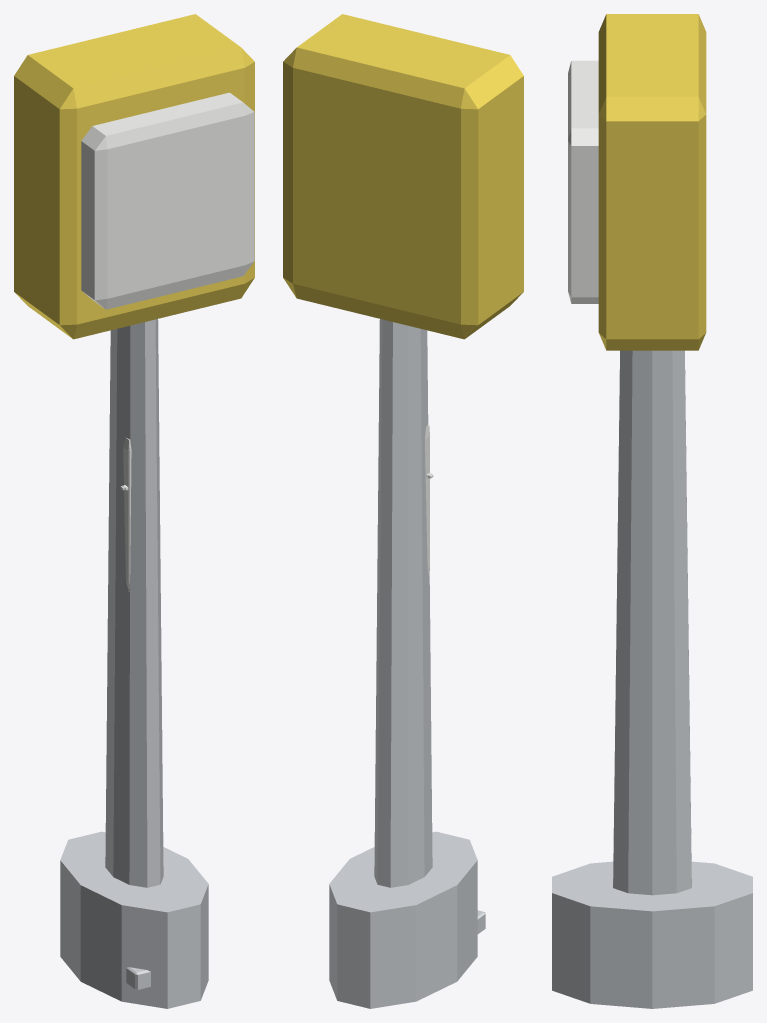
File: b02_vertical_traffic_signal.glb
3 renders of one model, left to right at view 1: azimuth 30°, elevation 25°; view 2: azimuth 150°, elevation 25°; view 3: azimuth 270°, elevation 25°, orthographic.
Parts seen in each view (by area): view 1: b02_vertical_traffic_signal; view 2: b02_vertical_traffic_signal; view 3: b02_vertical_traffic_signal.
Boxes of the visible parts, box(x1,y1,x2,y2) form: b02_vertical_traffic_signal: box(14, 14, 254, 1008); b02_vertical_traffic_signal: box(283, 14, 523, 1008); b02_vertical_traffic_signal: box(552, 14, 752, 1008).
Size of the model in its own units: 0.715 by 3.21 by 0.63.
